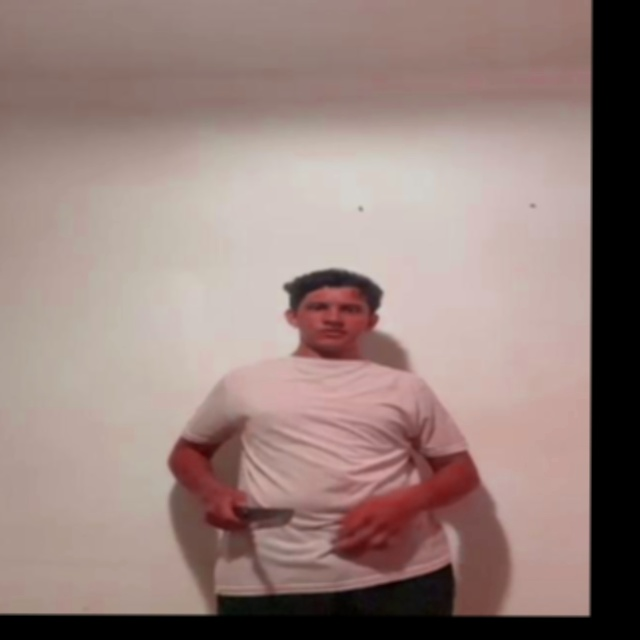Sharp-Object: (248, 504, 299, 532)
